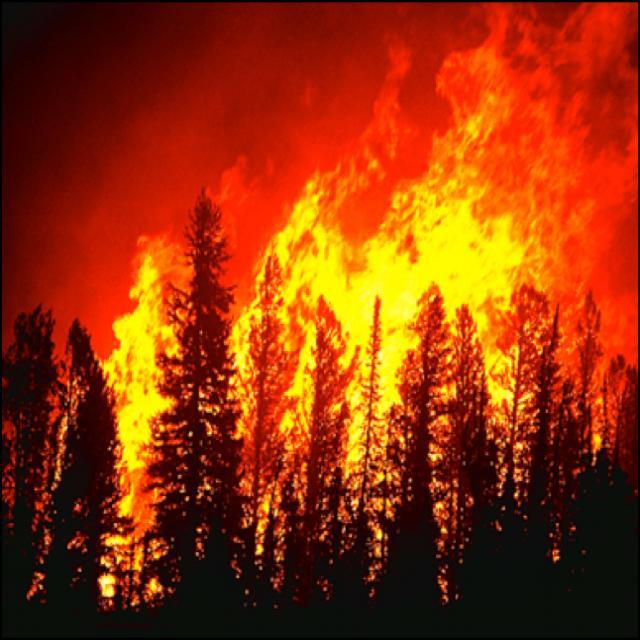Fire: (102, 0, 633, 586)
